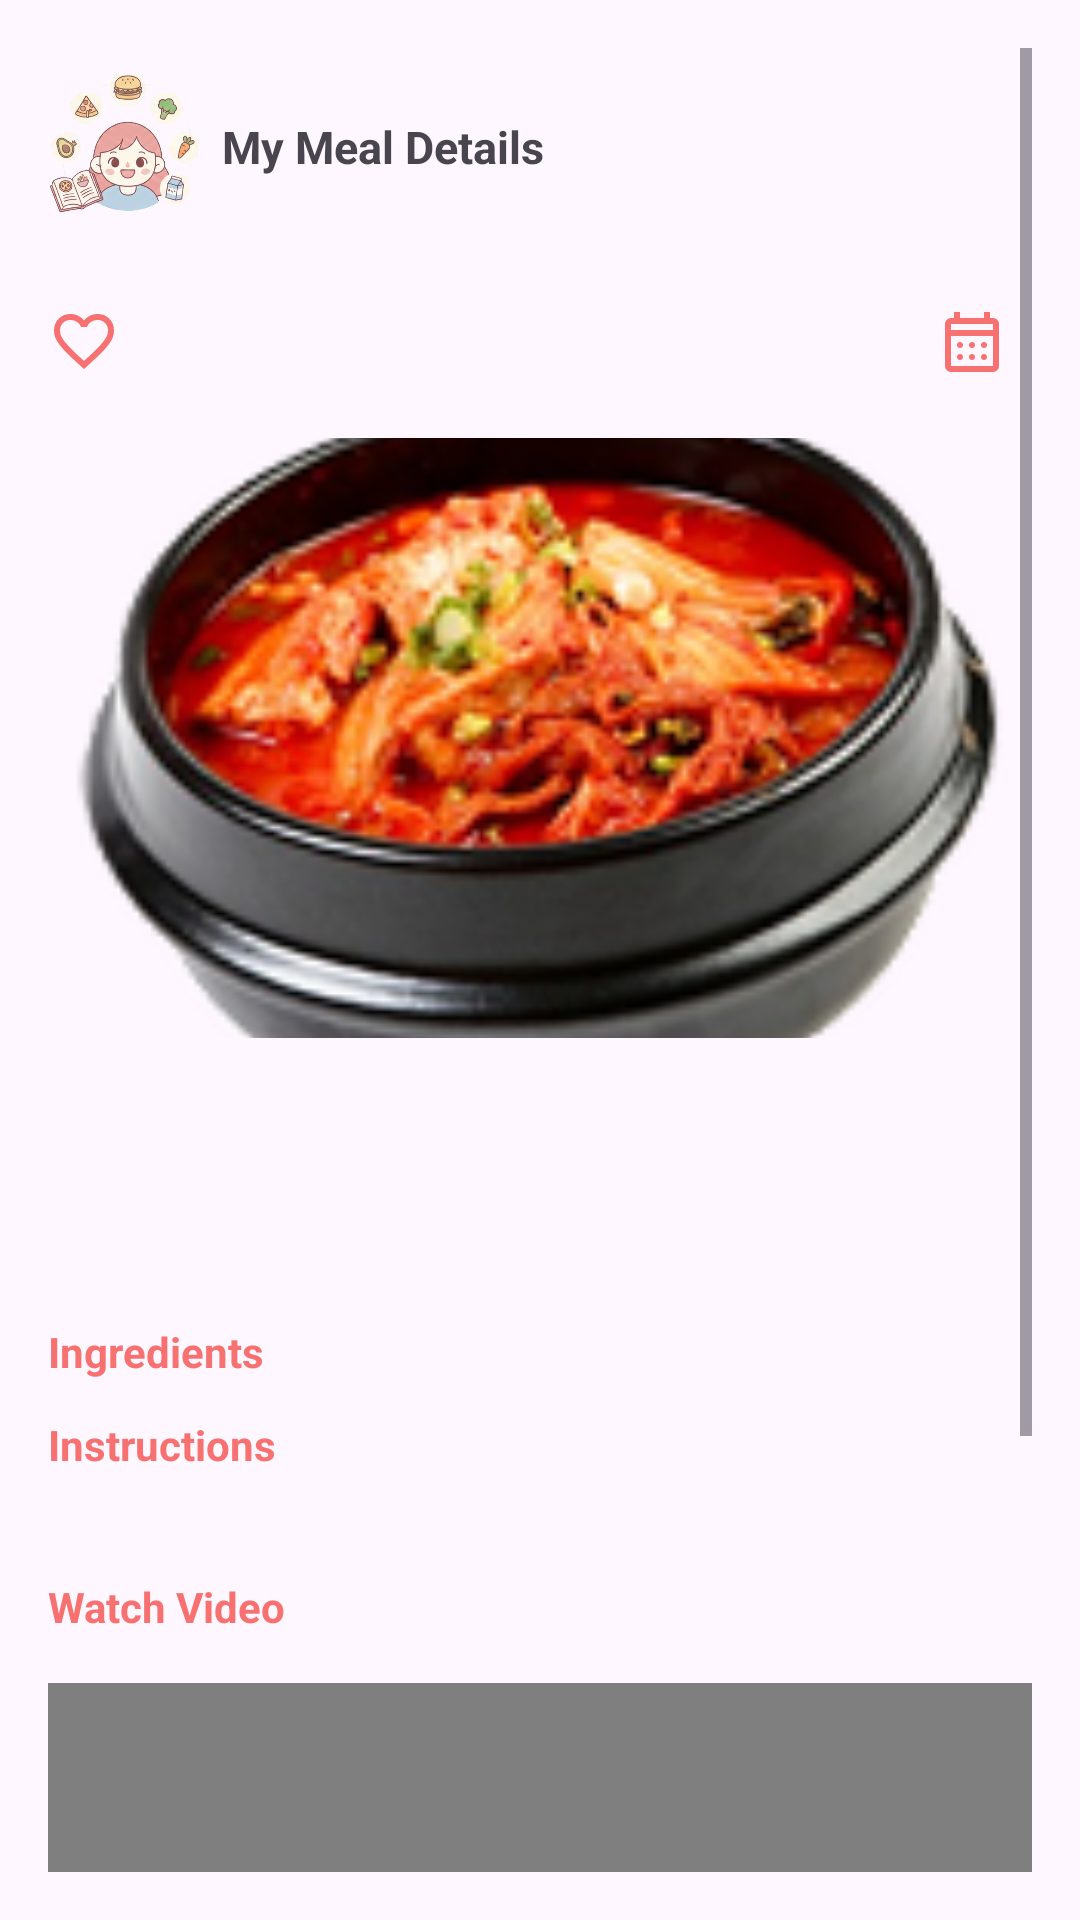

Point at icon controls on the screen. Image size 1080w x 1920h, points as point (x, y).
Add to Calendar: point (972, 342)
Add to Favorites: point (84, 341)
